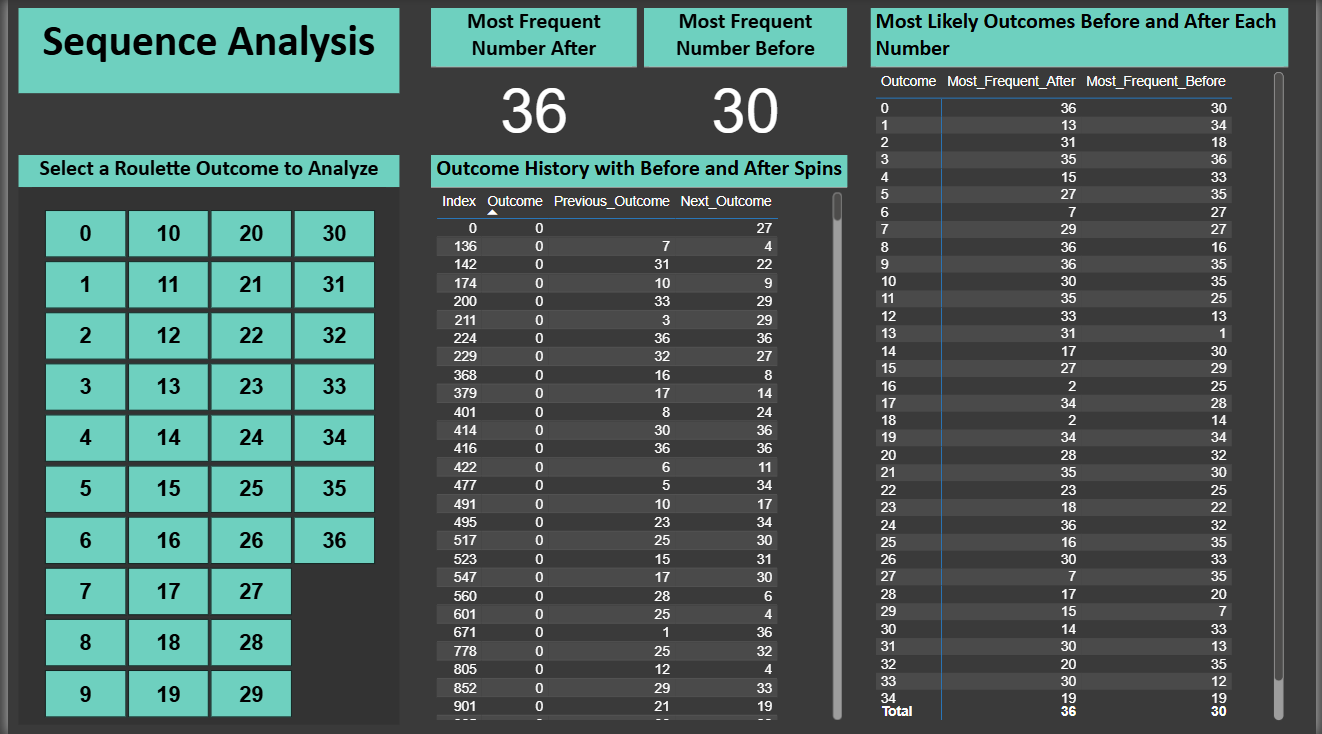

The page's visual inventory and layout, read from the dashboard file:
{"tool":"powerbi","page":{"name":"Sequence Analysis","canvas":[1280,720],"ordinal":0},"visuals":[{"type":"card","title":"Most Frequent Number After","fields":{"Values":["CasinoData.Most_Frequent_After"]},"box":[413.4,9.1,201.4,131.7],"z":0},{"type":"card","title":"Most Frequent Number Before","fields":{"Values":["CasinoData.Most_Frequent_Before"]},"box":[622.3,9.1,198.4,131.7],"z":1000},{"type":"slicer","title":"Select a Roulette Outcome to Analyze","fields":{"Values":["CasinoData.Outcome"]},"box":[10.6,152.9,372.5,557.2],"z":2000},{"type":"pivotTable","title":"Most Likely Outcomes Before and After Each Number","fields":{"Rows":["CasinoData.Outcome"],"Values":["CasinoData.Most_Frequent_After","CasinoData.Most_Frequent_Before"]},"box":[843.4,9.1,408.8,701.1],"z":3000},{"type":"tableEx","title":"Outcome History with Before and After Spins","fields":{"Values":["CasinoData.Index","CasinoData.Outcome","CasinoData.Previous_Outcome","CasinoData.Next_Outcome"]},"box":[413.4,152.9,407.3,557.2],"z":4000},{"type":"textbox","box":[10.6,9.1,372.5,83.3],"z":5000}]}

Visuals, with their boxes in screenshot pixels (x1, y1, x2, y2), scaled from the page's 1280x720 canvas onto the 1322x734 screenshot:
"Most Frequent Number After" card: box(427, 9, 635, 144)
"Most Frequent Number Before" card: box(643, 9, 848, 144)
"Select a Roulette Outcome to Analyze" slicer: box(11, 156, 396, 724)
"Most Likely Outcomes Before and After Each Number" pivotTable: box(871, 9, 1293, 724)
"Outcome History with Before and After Spins" tableEx: box(427, 156, 848, 724)
textbox: box(11, 9, 396, 94)
